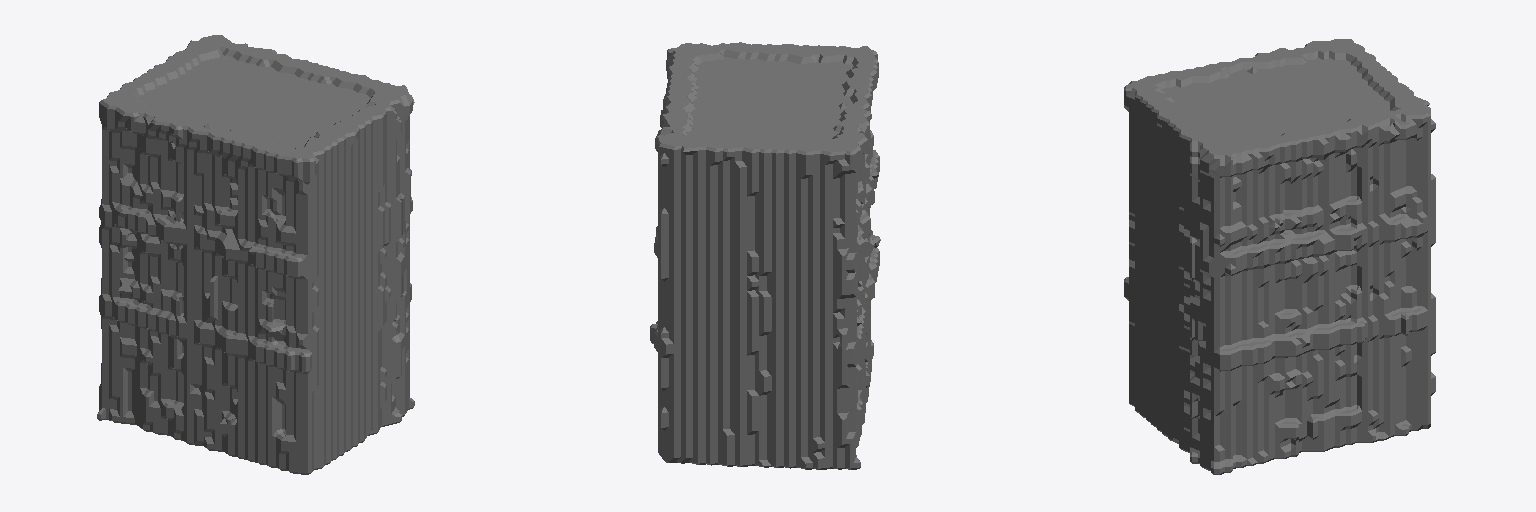
The model's file is gen6_colored.obj.
3 renders of one model, left to right at view 1: azimuth 30°, elevation 25°; view 2: azimuth 150°, elevation 25°; view 3: azimuth 270°, elevation 25°, orthographic.
Parts seen in each view (by area): view 1: gen6.obj; view 2: gen6.obj; view 3: gen6.obj.
Part boxes in pixels (bbox=[...]): gen6.obj: bbox=[97, 35, 414, 474]; gen6.obj: bbox=[650, 42, 880, 469]; gen6.obj: bbox=[1124, 39, 1435, 474].
Bounding box in the file's own units: 53 × 64 × 57.